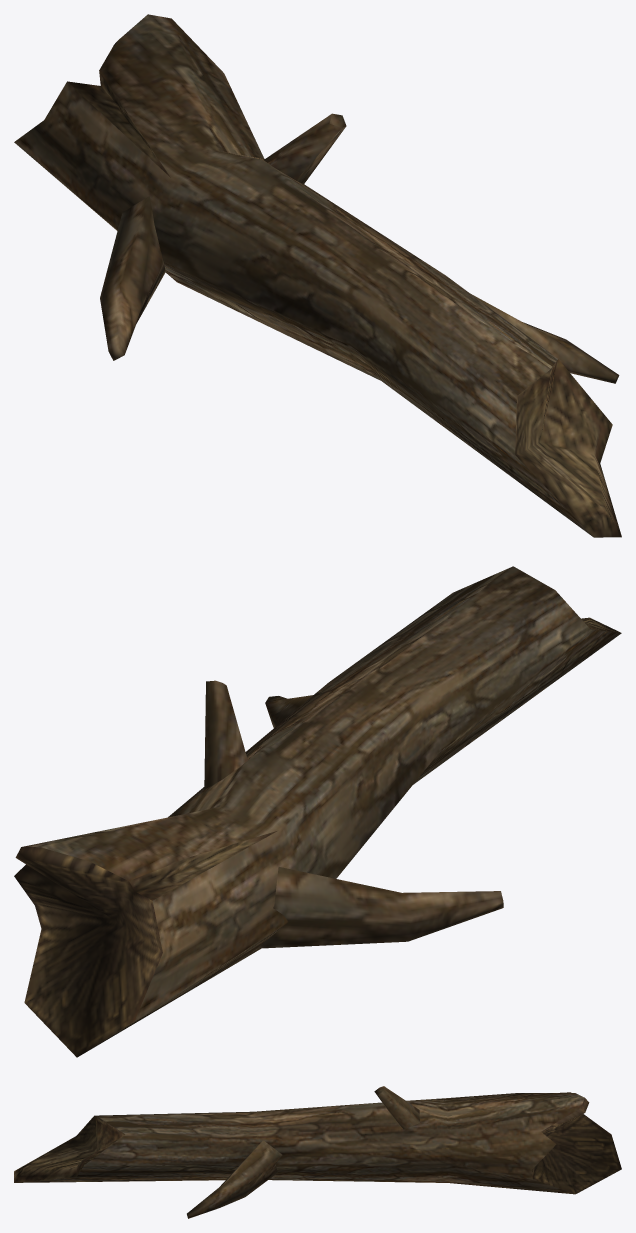
File: kqzd_shu_1_1.FBX
3 renders of one model, top to bottom at view 1: azimuth 30°, elevation 25°; view 2: azimuth 150°, elevation 25°; view 3: azimuth 270°, elevation 25°, orthographic. The views are drawn at different scales.
Parts seen in each view (by area): view 1: kqzd_shu_1_1; view 2: kqzd_shu_1_1; view 3: kqzd_shu_1_1.
Boxes of the visible parts, x1,y1,x2,y2 form: kqzd_shu_1_1: [14, 14, 621, 537]; kqzd_shu_1_1: [14, 566, 621, 1057]; kqzd_shu_1_1: [14, 1086, 621, 1218].
Size of the model in its own units: 168 by 419 by 80.14.
